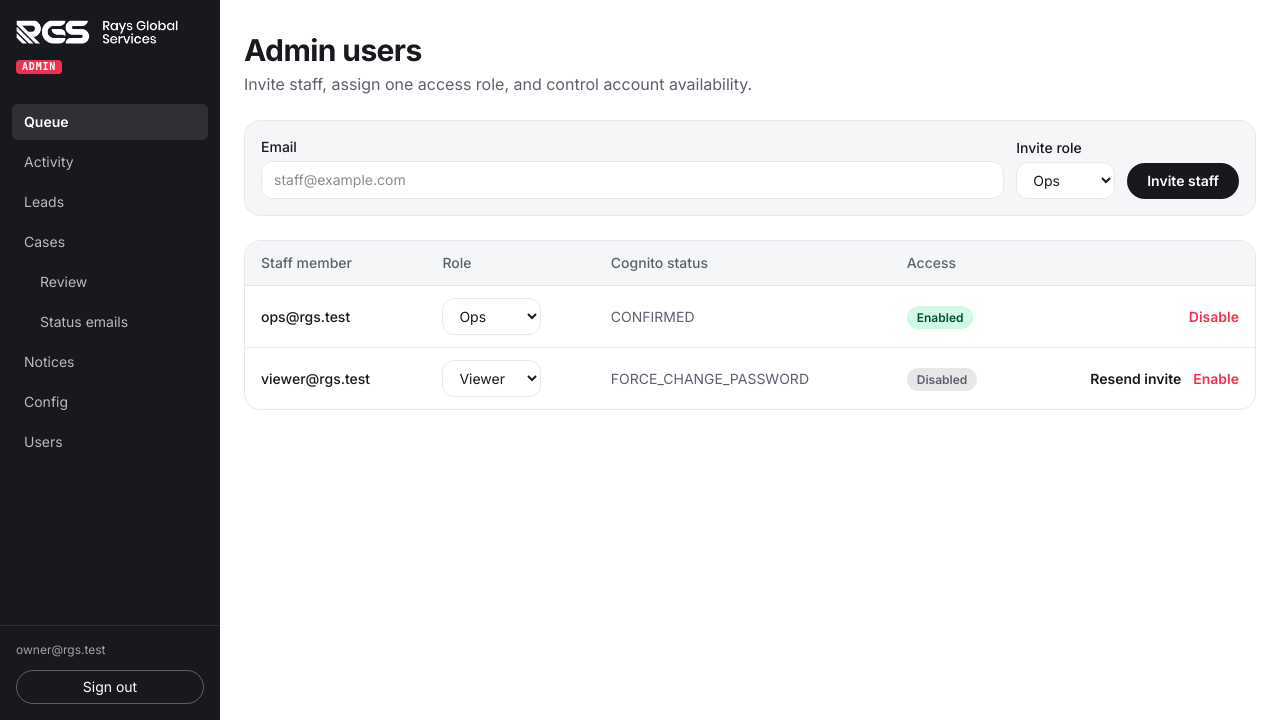
it: AdminUsersPage › shows a 400 response when an account cannot be disabled
Expected: the text "ops@rgs.test" is shown, [245,286,426,348]
Click the button with aria-label "Disable ops@rgs.test" at (1214, 316), box [1189,306,1239,326]
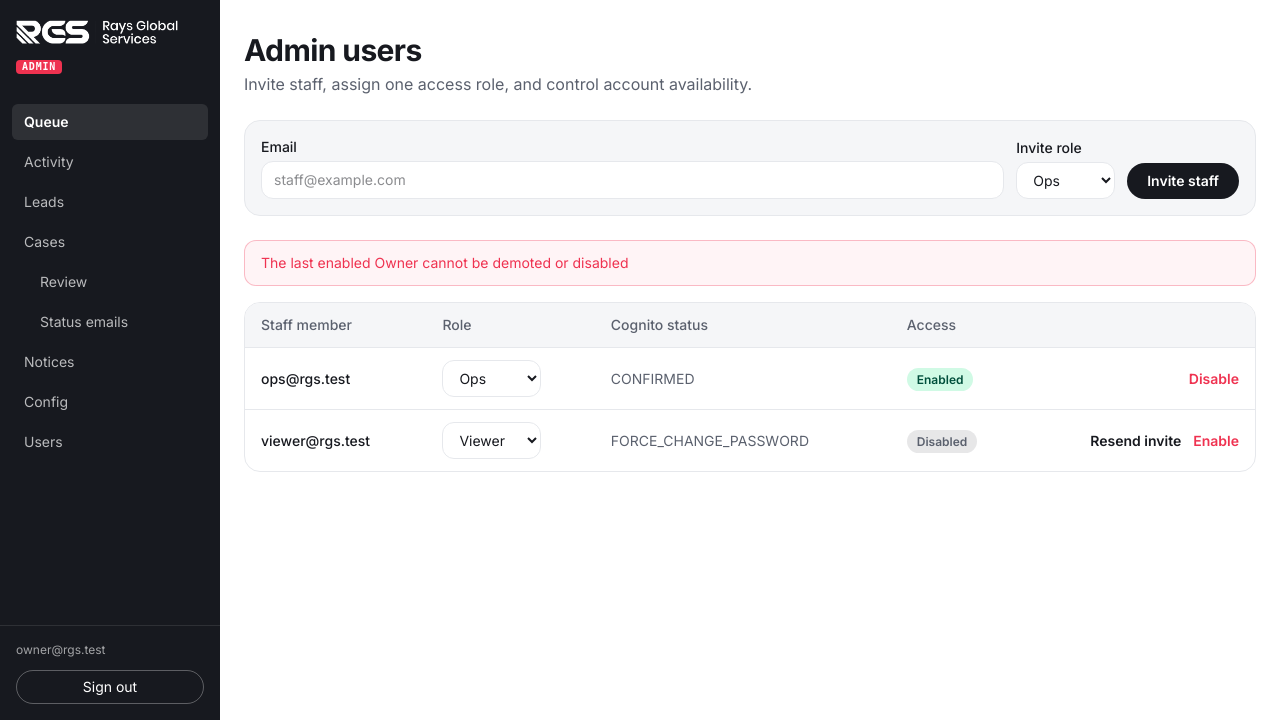
Expected: the text "The last enabled Owner cannot be demoted or disabled" is shown, [244,240,1256,286]
